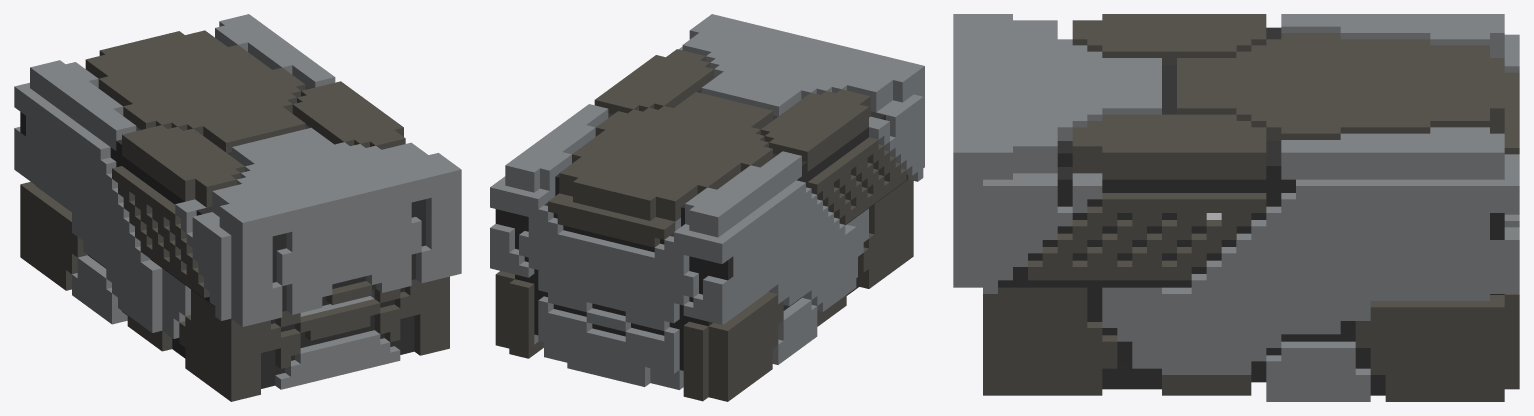
File: Mecha01_head.obj
3 renders of one model, left to right at view 1: azimuth 30°, elevation 25°; view 2: azimuth 150°, elevation 25°; view 3: azimuth 270°, elevation 25°, orthographic. The views are drawn at different scales.
Bounding box in the file's own units: 2.4 × 1.8 × 3.8.
1 material, 1 textured.
